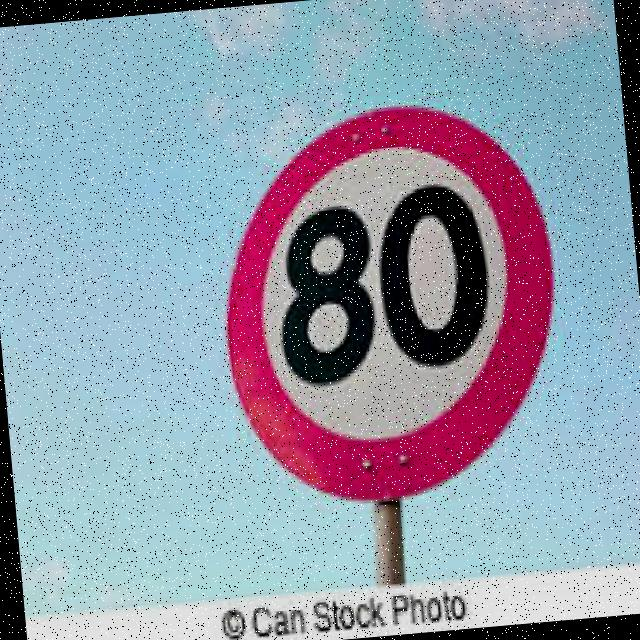Ograniczenie predkosci do 80: (236, 143, 542, 462)
